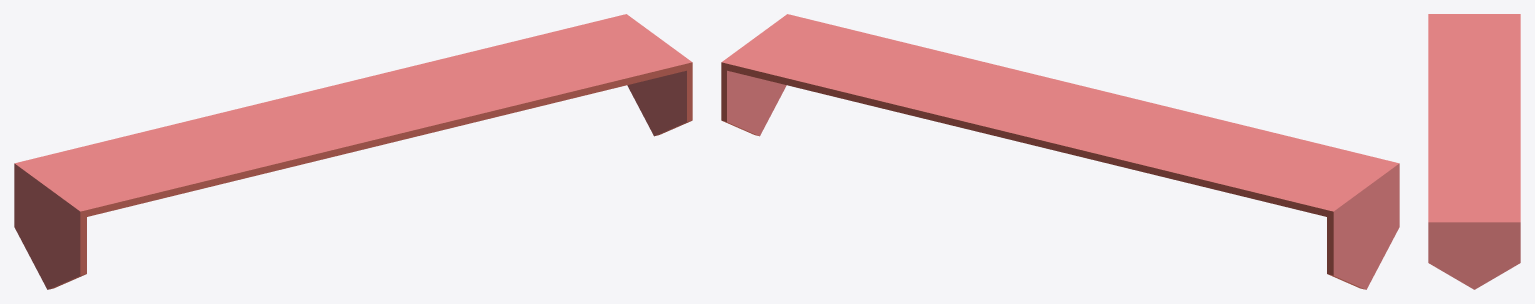
The model's file is Table Cloth Band.fbx.
The picture shows the model from 3 angles, left to right: view 1: azimuth 30°, elevation 25°; view 2: azimuth 150°, elevation 25°; view 3: azimuth 270°, elevation 25°; orthographic projection. The views are drawn at different scales.
Visible parts, largest first — view 1: Table Cloth Band; view 2: Table Cloth Band; view 3: Table Cloth Band.
Boxes of the visible parts, left/top/right/bottom form: Table Cloth Band: left=14, top=14, right=692, bottom=289; Table Cloth Band: left=721, top=14, right=1399, bottom=289; Table Cloth Band: left=1428, top=14, right=1520, bottom=289.
Size of the model in its own units: 400 by 64.07 by 74.79.
